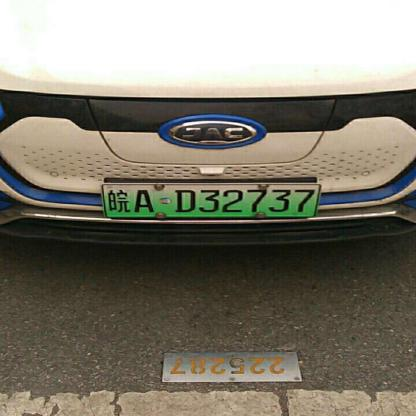lp: (102, 183, 322, 219)
